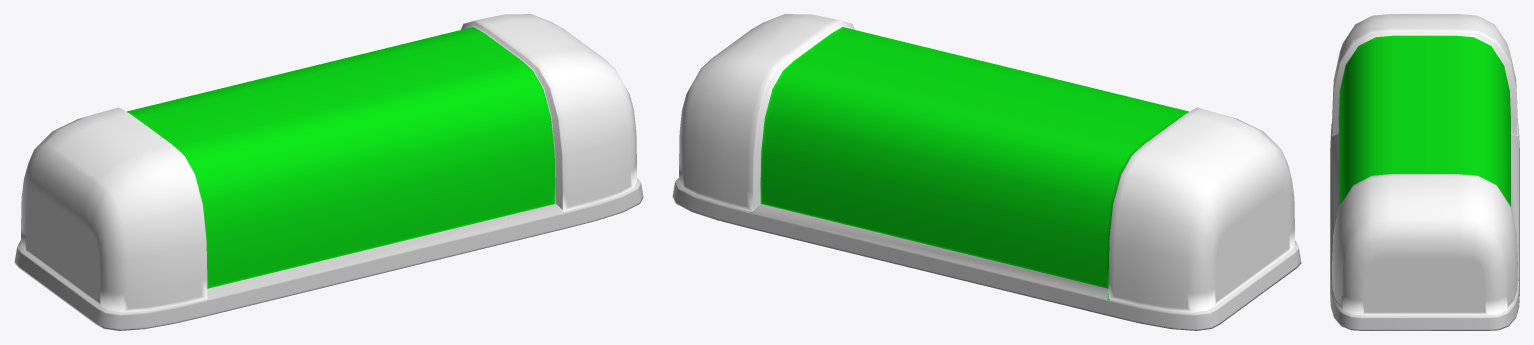
Rendered from Notes_Default.fbx.
The picture shows the model from 3 angles, left to right: view 1: azimuth 30°, elevation 25°; view 2: azimuth 150°, elevation 25°; view 3: azimuth 270°, elevation 25°; orthographic projection. The views are drawn at different scales.
Parts seen in each view (by area): view 1: Cube; view 2: Cube; view 3: Cube.
Boxes of the visible parts, <box> form: Cube: <box>14,14,643,330</box>; Cube: <box>672,14,1301,330</box>; Cube: <box>1330,14,1519,330</box>.
Bounding box in the file's own units: 332 × 84.54 × 122.
